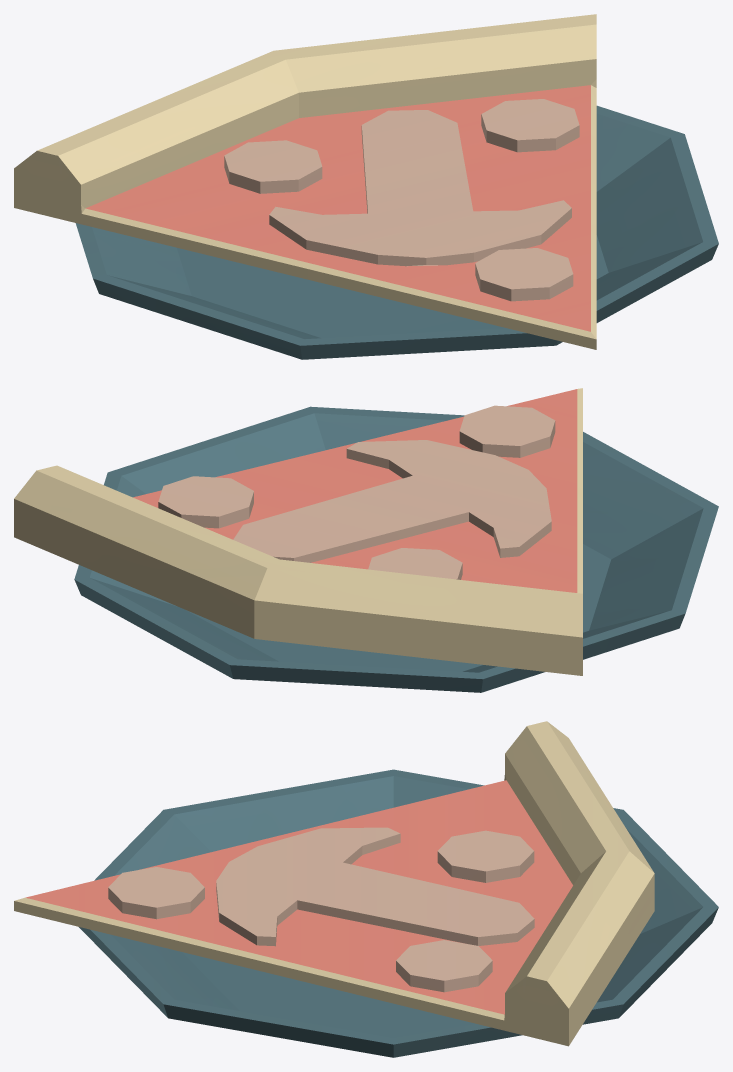
Rendered from pizza-mushrooms-slice-on-plate.glb.
3 views of the same model, one above another, from view 1: azimuth 30°, elevation 25°; view 2: azimuth 150°, elevation 25°; view 3: azimuth 270°, elevation 25° (orthographic). The views are drawn at different scales.
Parts seen in each view (by area): view 1: PizzaMushroomsSliceOnPlate.001; view 2: PizzaMushroomsSliceOnPlate.001; view 3: PizzaMushroomsSliceOnPlate.001.
Part boxes in pixels (x1,y1,x2,y2): PizzaMushroomsSliceOnPlate.001: (14, 14, 718, 359); PizzaMushroomsSliceOnPlate.001: (14, 388, 718, 692); PizzaMushroomsSliceOnPlate.001: (14, 721, 718, 1057).
Bounding box in the file's own units: 0.3047 × 0.0576 × 0.3279.
1 material, 1 textured.
